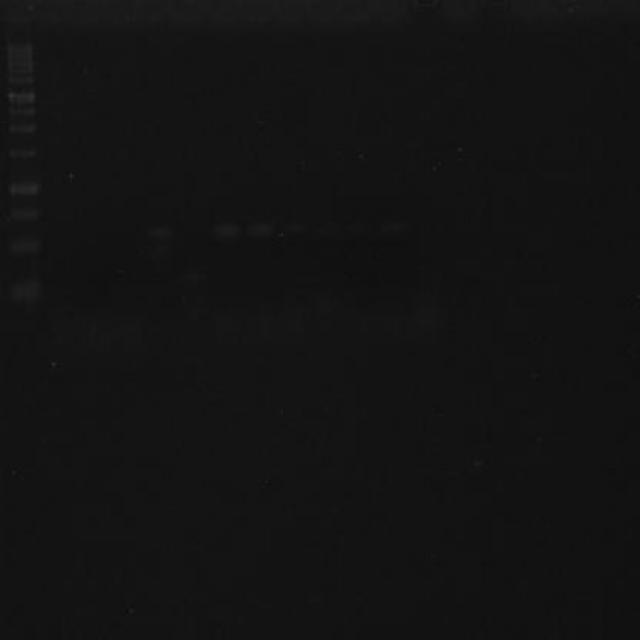B: (138, 220, 182, 246), (209, 216, 243, 242), (242, 218, 275, 244)
M: (0, 23, 55, 374)
P: (7, 280, 44, 306), (7, 202, 41, 224), (7, 234, 42, 254), (8, 180, 43, 197), (4, 87, 38, 104), (6, 144, 39, 161), (4, 42, 36, 58), (8, 120, 38, 136), (5, 105, 38, 118), (6, 74, 36, 86), (6, 58, 36, 68), (3, 68, 34, 74)
